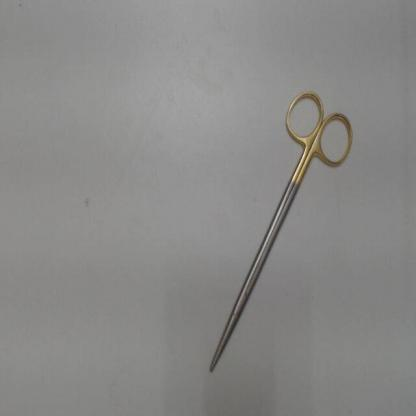7 Metzenbaum Scissors: (205, 84, 356, 381)
